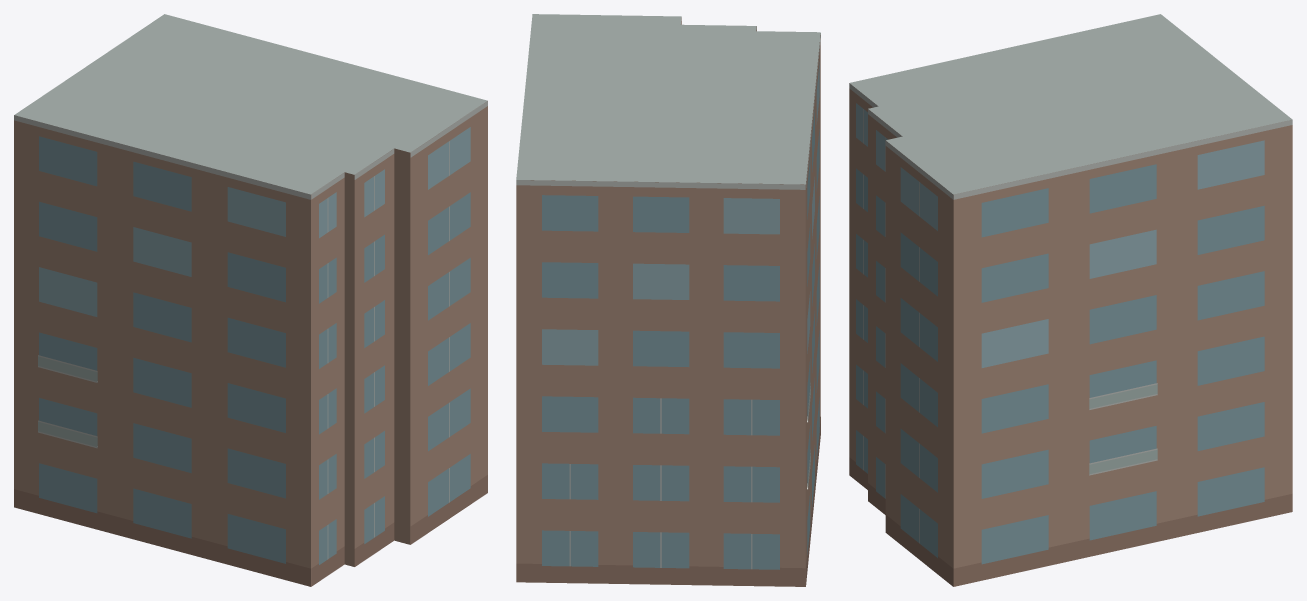
File: survey-upis-32670523.glb
The picture shows the model from 3 angles, left to right: view 1: azimuth 30°, elevation 25°; view 2: azimuth 150°, elevation 25°; view 3: azimuth 270°, elevation 25°; orthographic projection. The views are drawn at different scales.
Parts seen in each view (by area): view 1: survey-upis-32670523.tmp; view 2: survey-upis-32670523.tmp; view 3: survey-upis-32670523.tmp.
Boxes of the visible parts, bbox=[...] form: survey-upis-32670523.tmp: bbox=[14, 14, 487, 586]; survey-upis-32670523.tmp: bbox=[516, 14, 820, 586]; survey-upis-32670523.tmp: bbox=[849, 14, 1292, 586].
Bounding box in the file's own units: 17.88 × 18.1 × 18.55.
